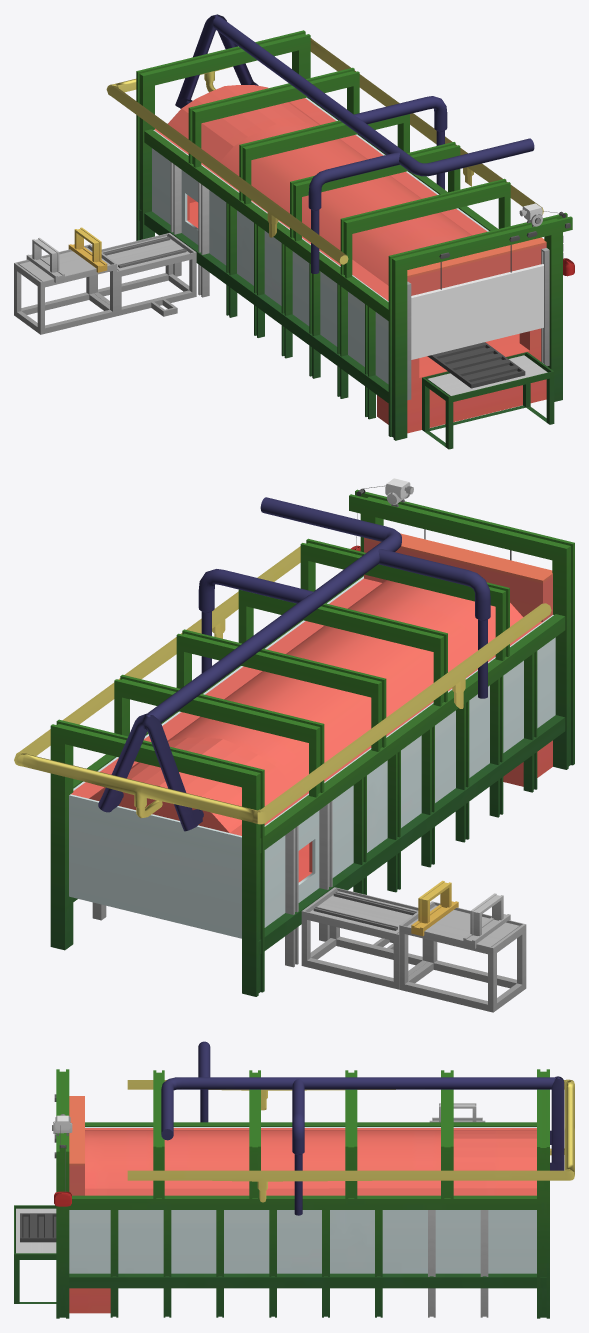
Rendered from Jiarelu.glb.
3 renders of one model, top to bottom at view 1: azimuth 30°, elevation 25°; view 2: azimuth 150°, elevation 25°; view 3: azimuth 270°, elevation 25°, orthographic. The views are drawn at different scales.
Parts seen in each view (by area): view 1: Jiarelu; view 2: Jiarelu; view 3: Jiarelu.
Boxes of the visible parts, x1,y1,x2,y2 form: Jiarelu: (14,14,574,449); Jiarelu: (14,478,574,1012); Jiarelu: (14,1041,574,1318).
Size of the model in its own units: 10.11 by 5.83 by 14.67.
Materials: 1 (1 with a texture image).
